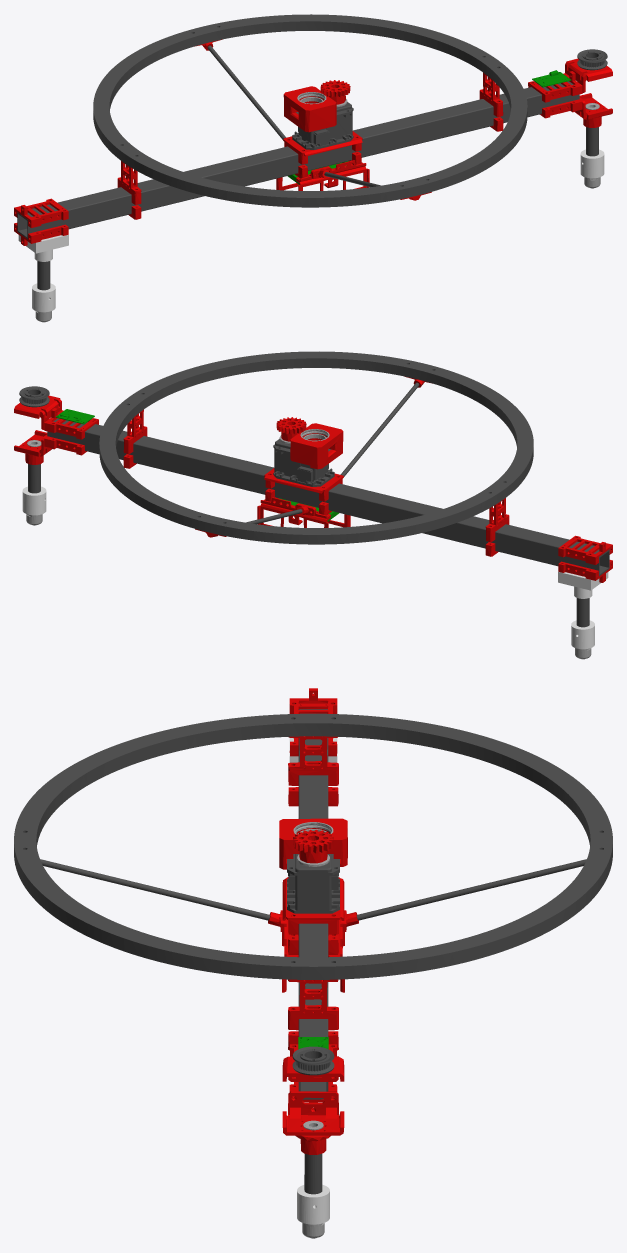
The model's file is head_link.dae.
3 renders of one model, top to bottom at view 1: azimuth 30°, elevation 25°; view 2: azimuth 150°, elevation 25°; view 3: azimuth 270°, elevation 25°, orthographic. The views are drawn at different scales.
Visible parts, largest first — view 1: Black, Red, White, Silver, Green; view 2: Black, Red, White, Silver, Green; view 3: Black, Red, White, Silver.
Part boxes in pixels (x1,y1,x2,y2): Black: (17, 14, 607, 290); Red: (14, 39, 612, 245); White: (18, 149, 604, 312); Silver: (35, 92, 600, 322); Green: (287, 70, 571, 184); Black: (19, 351, 609, 627); Red: (14, 376, 612, 582); White: (22, 486, 608, 649); Silver: (26, 429, 591, 659); Green: (55, 409, 339, 521); Black: (14, 709, 612, 1194); Red: (268, 688, 358, 1154); White: (289, 738, 337, 1224); Silver: (293, 822, 333, 1238).
Size of the model in its own units: 0.62 by 0.4 by 0.1671.
